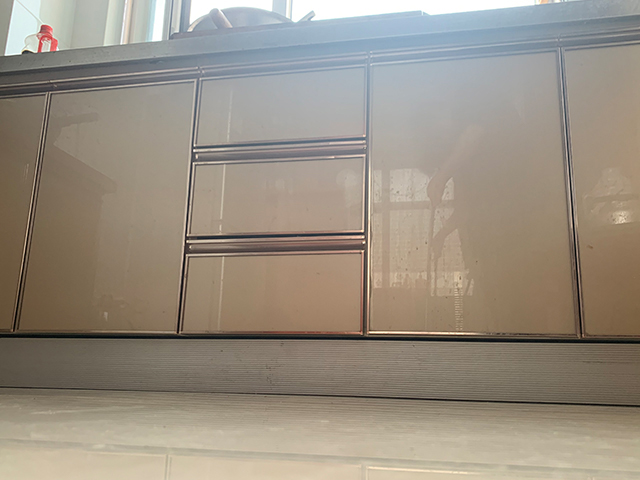cabinet: (1, 1, 640, 407)
